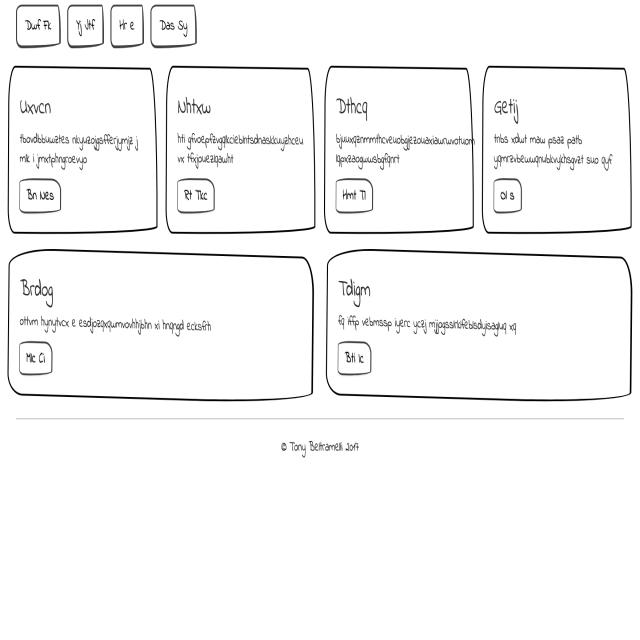Button: (18, 172, 62, 220), (329, 176, 378, 214), (173, 175, 219, 212), (336, 338, 373, 379), (17, 342, 55, 379), (492, 176, 526, 214)
Card: (324, 246, 634, 404), (8, 247, 314, 402), (480, 58, 635, 240), (164, 61, 317, 238), (324, 60, 474, 236), (7, 62, 159, 234)
Footer: (0, 411, 640, 640)
Heading 6: (17, 278, 66, 311), (332, 91, 378, 124), (16, 90, 58, 125), (340, 272, 382, 307), (171, 91, 218, 122), (492, 93, 528, 130)
Navigation Bar: (13, 2, 199, 52)
Paragraph: (15, 309, 216, 343), (492, 128, 618, 175), (15, 128, 146, 173), (338, 309, 519, 341), (334, 131, 474, 171), (174, 127, 305, 169)
